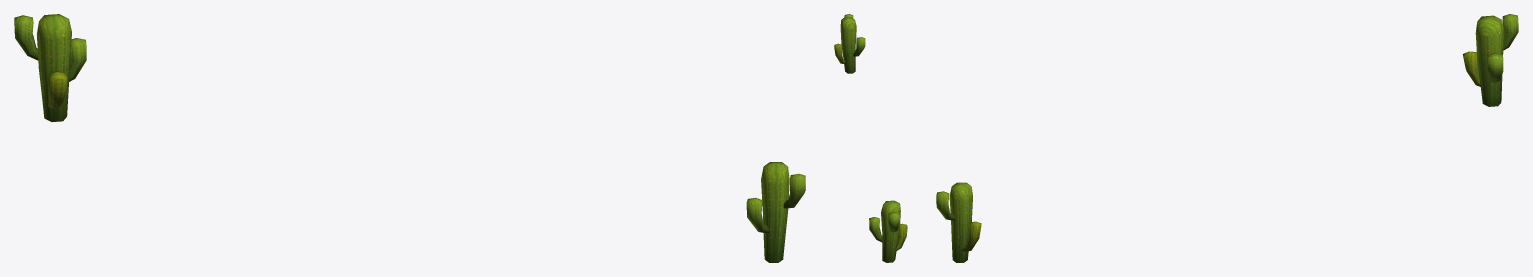
Rendered from xianrenzhang03.fbx.
The picture shows the model from 3 angles, left to right: view 1: azimuth 30°, elevation 25°; view 2: azimuth 150°, elevation 25°; view 3: azimuth 270°, elevation 25°; orthographic projection. The views are drawn at different scales.
Visible parts, largest first — view 1: xianrenzhang03; view 2: xianrenzhang03; view 3: xianrenzhang03.
Boxes of the visible parts, x1,y1,x2,y2 form: xianrenzhang03: [14, 14, 805, 262]; xianrenzhang03: [834, 14, 907, 262]; xianrenzhang03: [936, 14, 1518, 262].
Size of the model in its own units: 2666 by 589 by 3701.
Materials: 1 (1 with a texture image).
